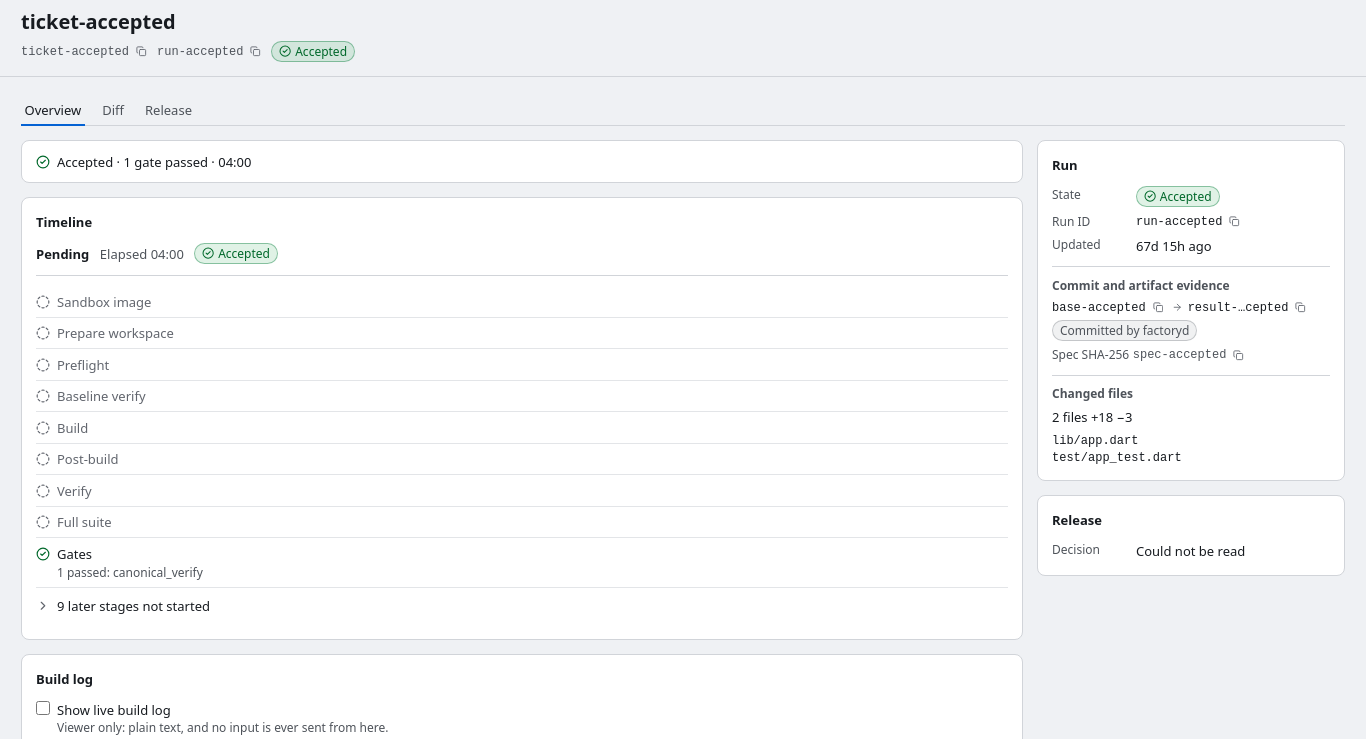
it: live build log pane › toggling it off unsubscribes, and on again starts from the full log
This screenshot has width=1366, height=739.
Click the switch labelled "Show live build log" at (43, 708), box 36,701 -> 50,715
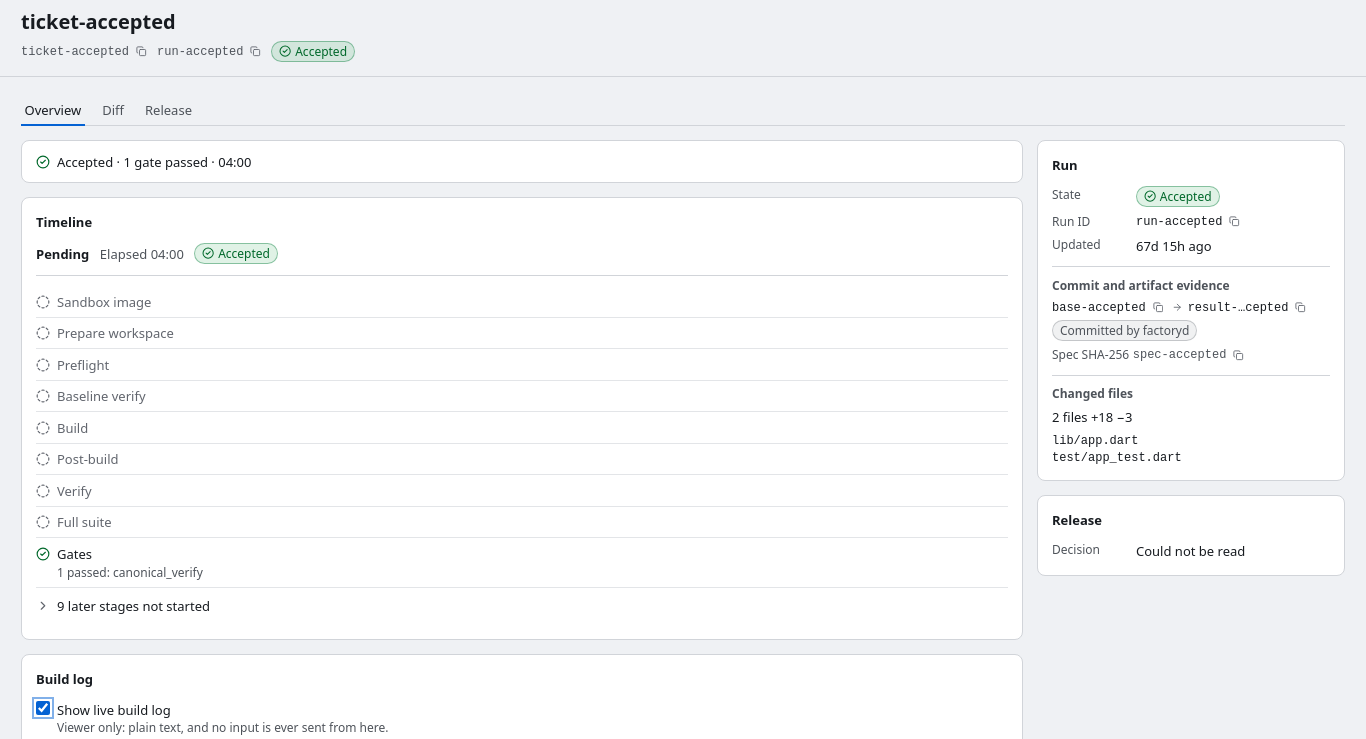
Click the switch at (43, 708), box 36,701 -> 50,715
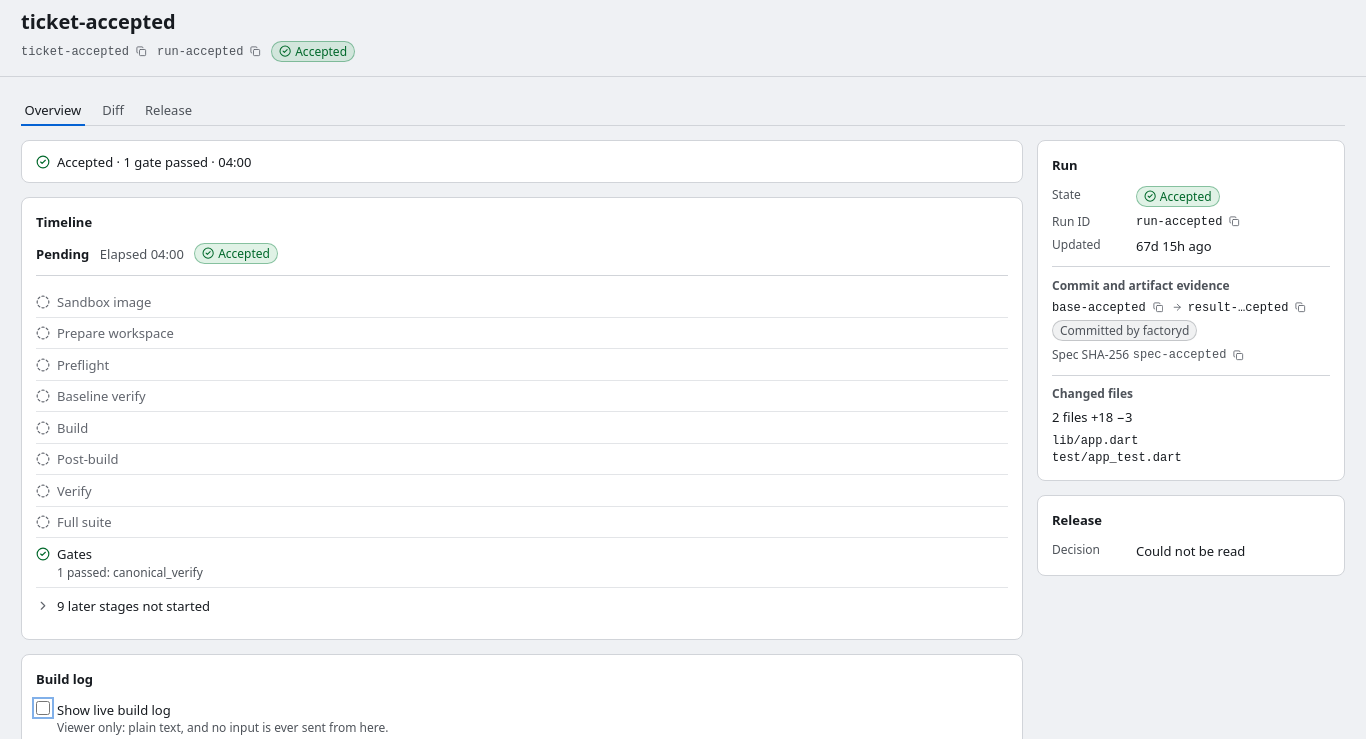
Click the switch at (43, 708), box 36,701 -> 50,715
(page scrolled)
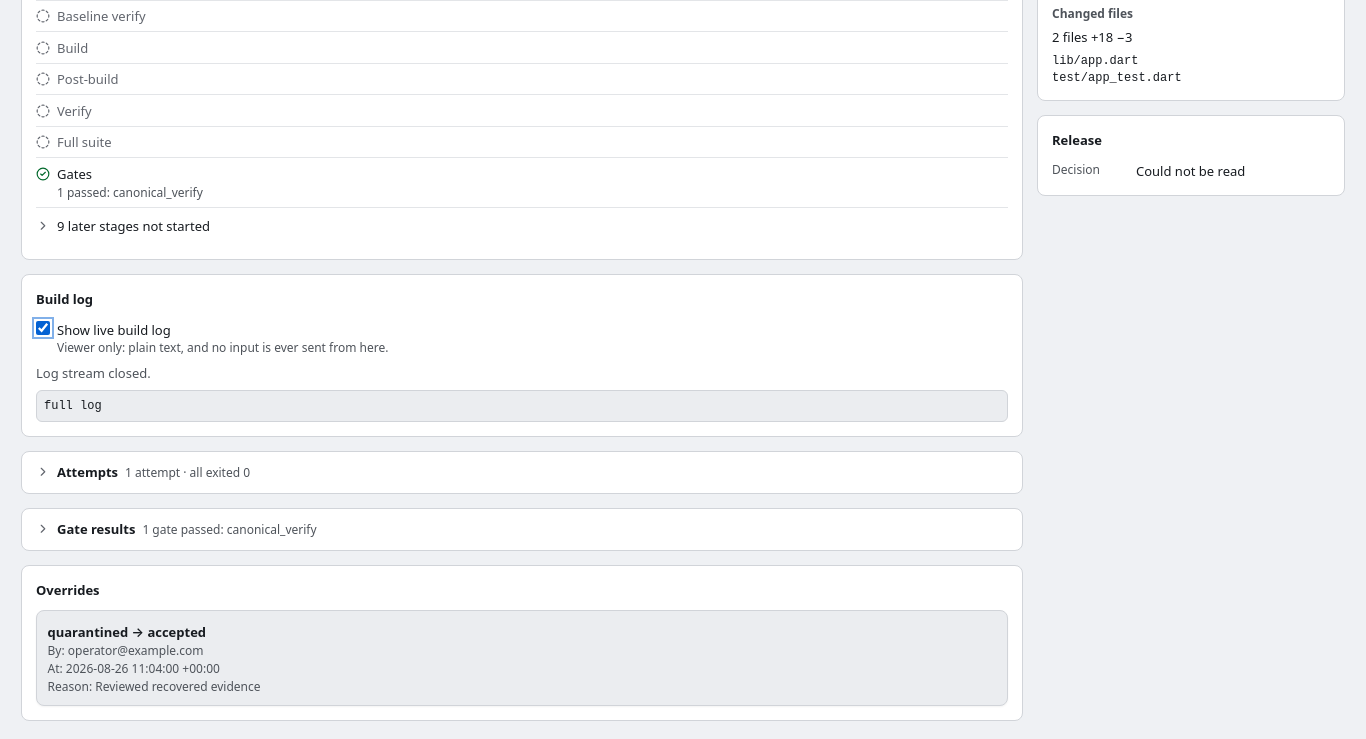
Expected: the text named "Build log" reads "full log", 44,398 -> 102,412
